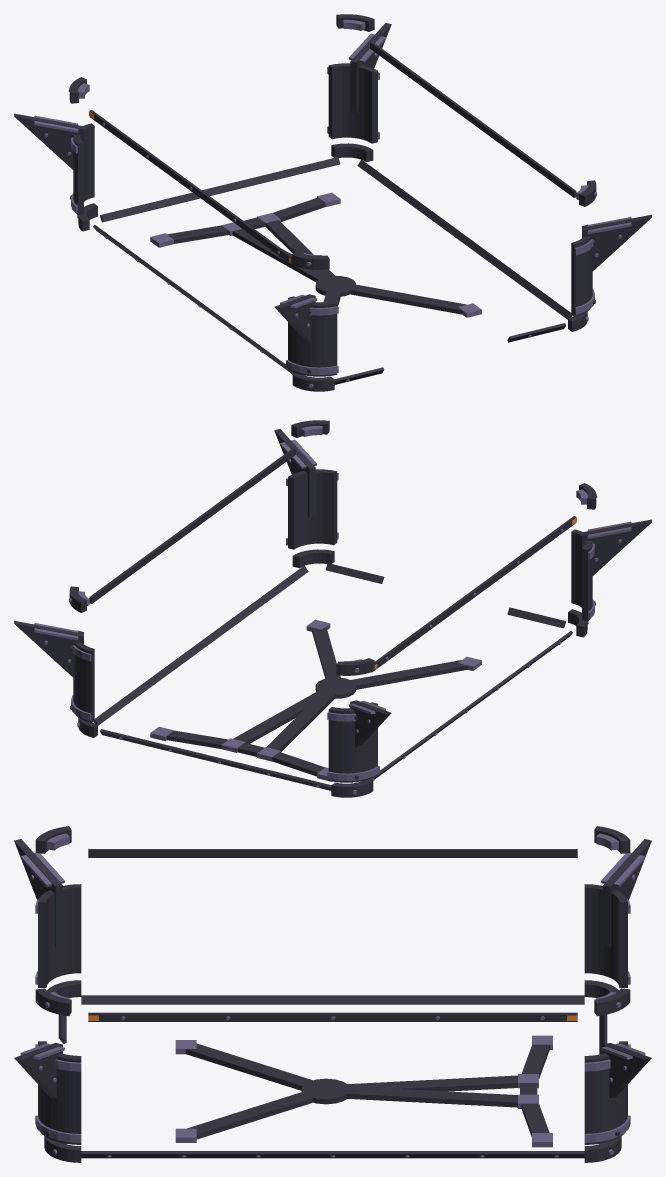
The model's file is reinforced_frame.glb.
3 renders of one model, top to bottom at view 1: azimuth 30°, elevation 25°; view 2: azimuth 150°, elevation 25°; view 3: azimuth 270°, elevation 25°, orthographic. The views are drawn at different scales.
Parts seen in each view (by area): view 1: corner_sleeves; view 2: corner_sleeves; view 3: corner_sleeves.
Boxes of the visible parts, bbox=[...] form: corner_sleeves: bbox=[14, 14, 651, 391]; corner_sleeves: bbox=[14, 420, 651, 797]; corner_sleeves: bbox=[14, 826, 651, 1162].
Bounding box in the file's own units: 1.5 × 0.569 × 1.83.
